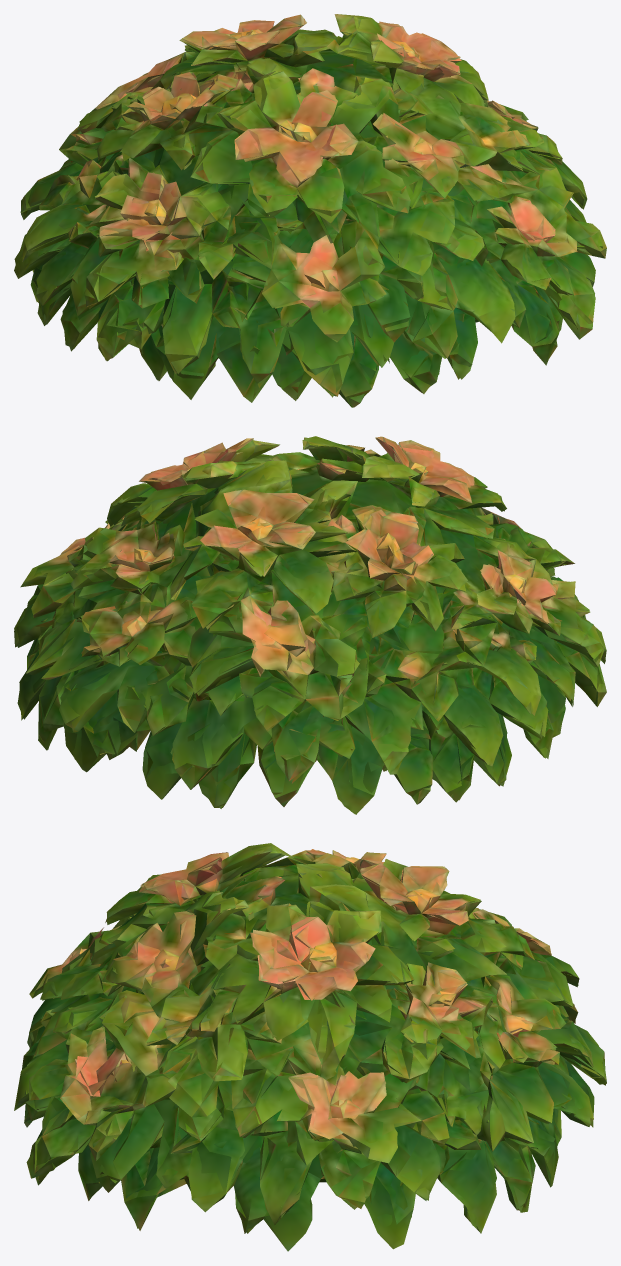
Rendered from blooming-bush-gpu.glb.
The picture shows the model from 3 angles, top to bottom: view 1: azimuth 30°, elevation 25°; view 2: azimuth 150°, elevation 25°; view 3: azimuth 270°, elevation 25°; orthographic projection. The views are drawn at different scales.
Parts seen in each view (by area): view 1: output_unwrapped; view 2: output_unwrapped; view 3: output_unwrapped.
Boxes of the visible parts, left/top/right/bottom form: output_unwrapped: left=14, top=14, right=606, bottom=407; output_unwrapped: left=14, top=436, right=606, bottom=814; output_unwrapped: left=14, top=843, right=606, bottom=1251.
Size of the model in its own units: 1.89 by 0.8712 by 1.79.
1 material, 1 textured.
